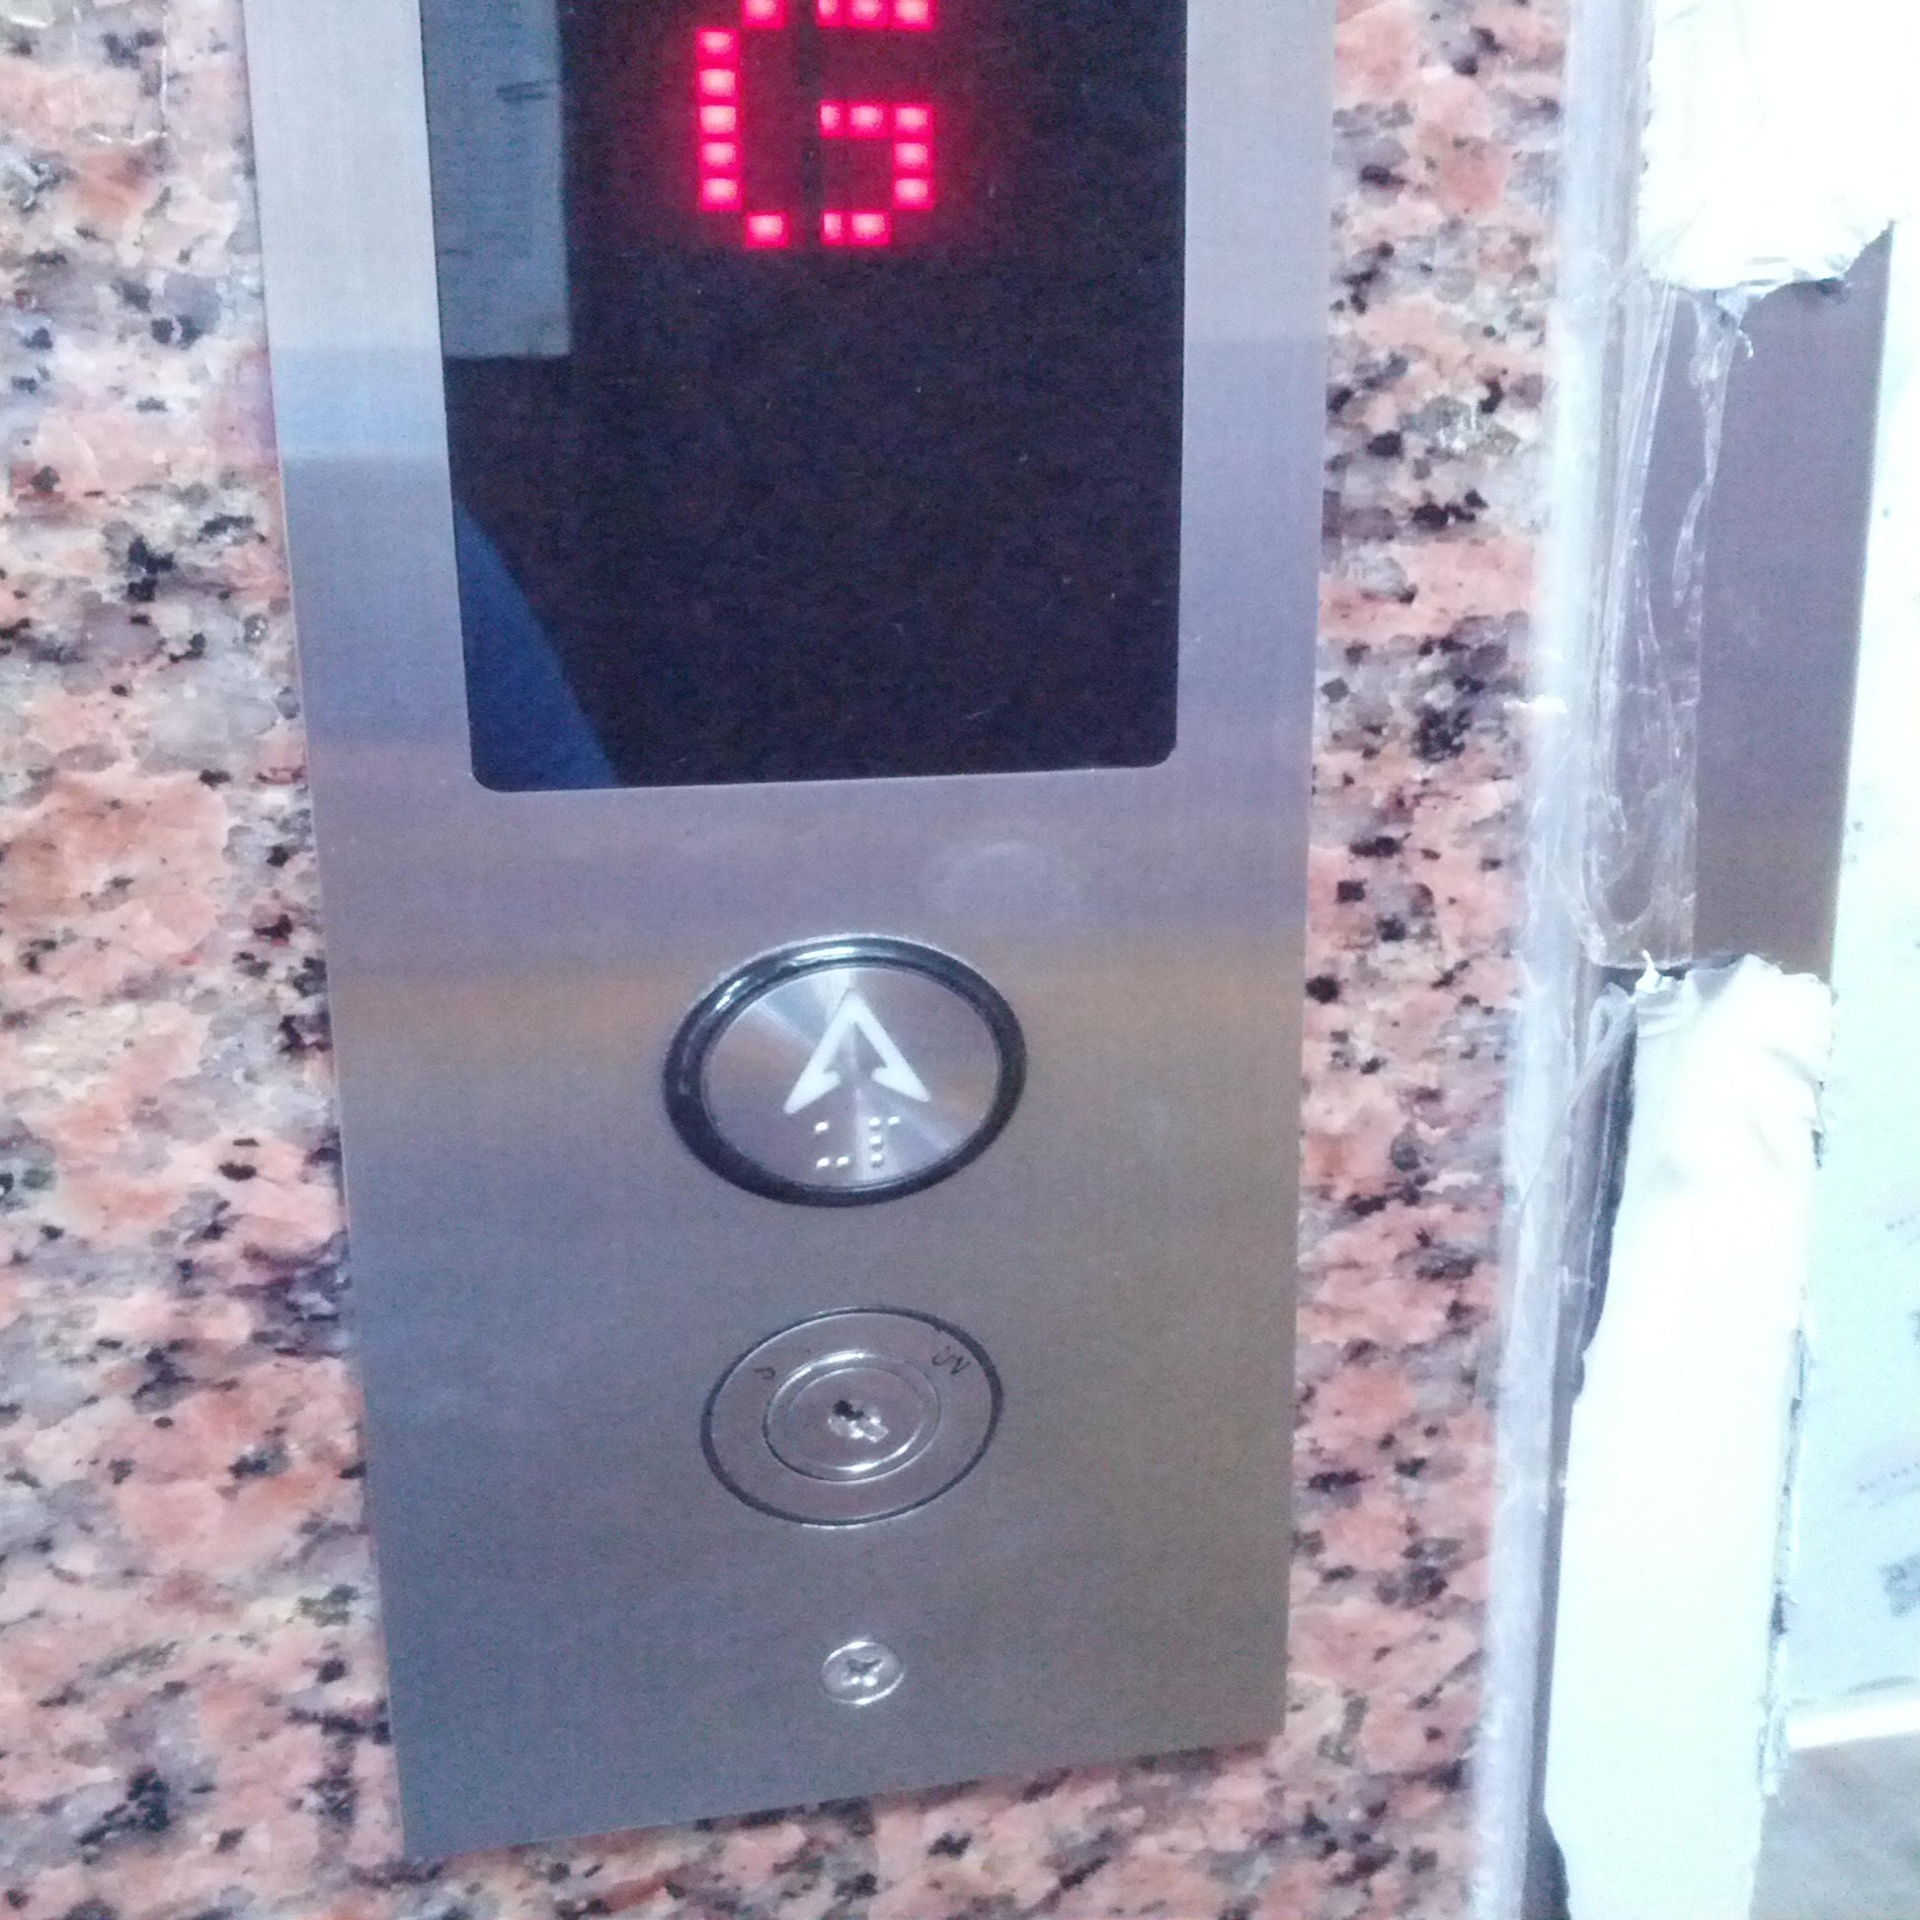keyhole: (696, 1303, 1002, 1530)
led: (417, 2, 1194, 789)
up: (658, 934, 1030, 1210)
